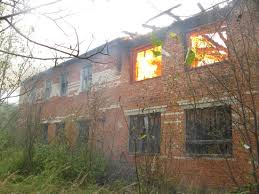fire: (122, 31, 175, 82), (183, 32, 239, 68)
